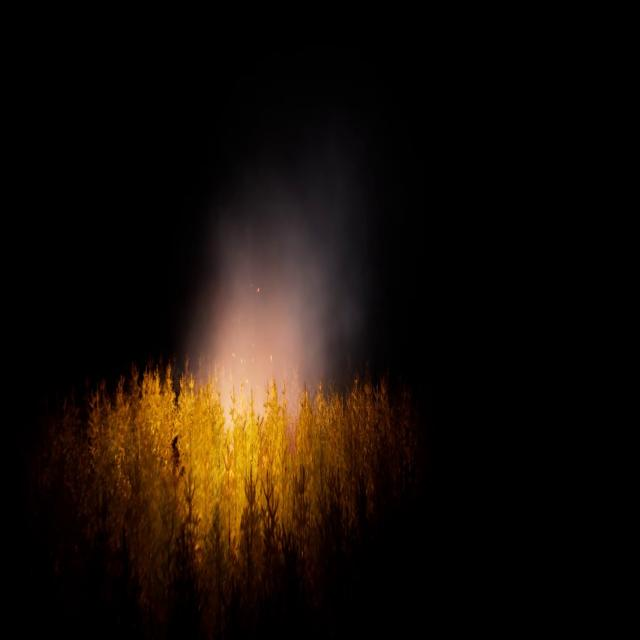smoke: (187, 162, 369, 418)
